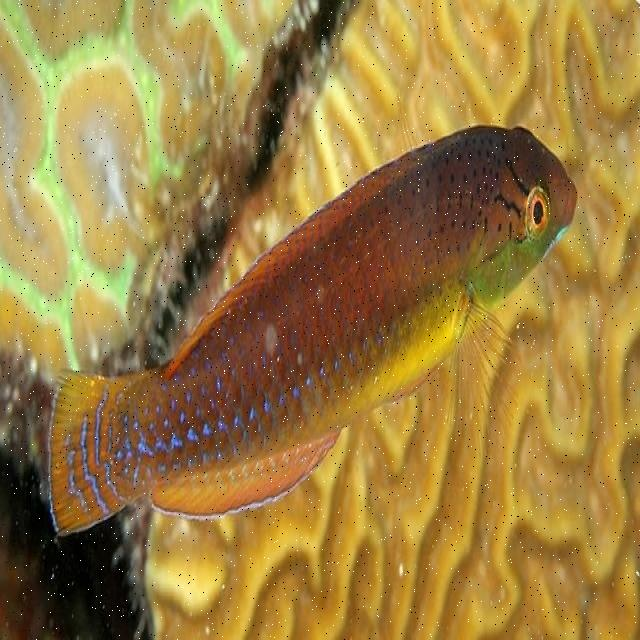fish: (42, 124, 578, 534)
reefs: (142, 0, 639, 639)
